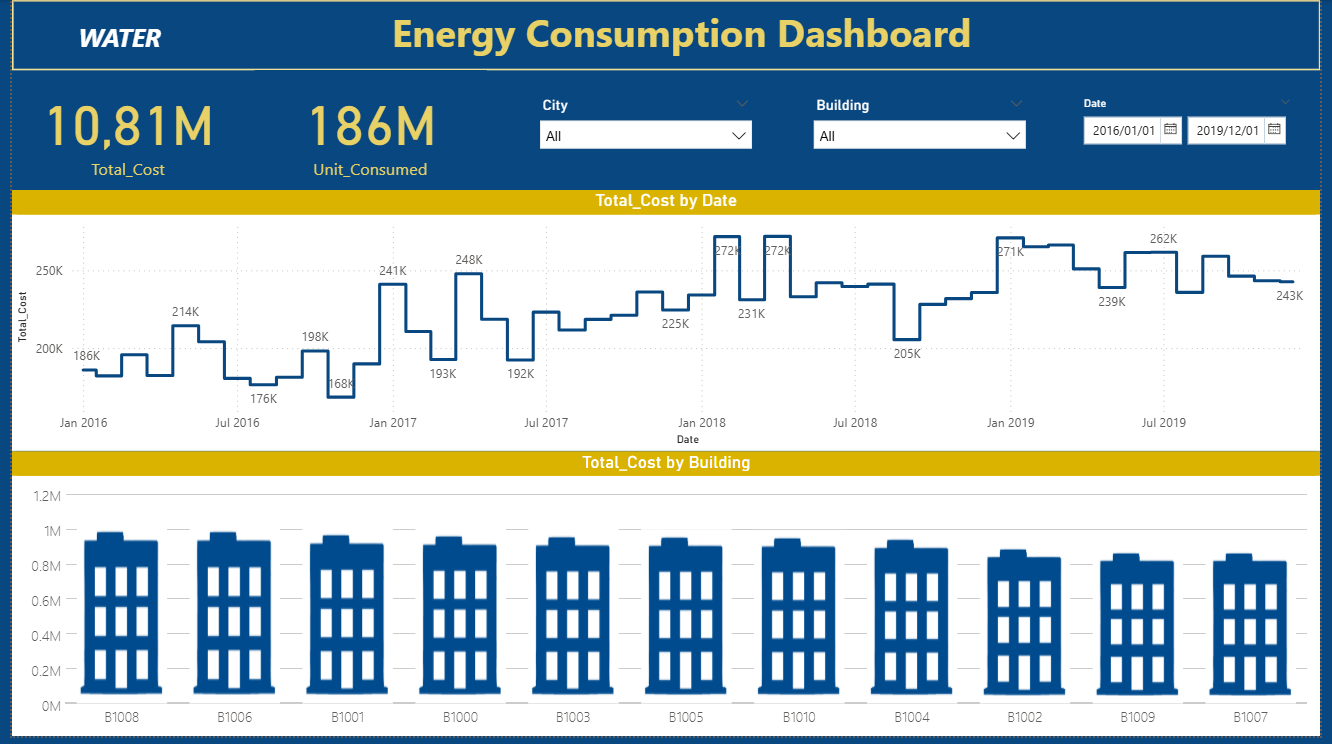

The page's visual inventory and layout, read from the dashboard file:
{"tool":"powerbi","page":{"name":"Water Consumption","canvas":[1280,720],"ordinal":1},"visuals":[{"type":"card","fields":{"Values":["Energy Consumptions.Water_Total_Cost"]},"box":[0,68.6,227.8,116.6],"z":0},{"type":"textbox","box":[0,0,1280.3,68.6],"z":1},{"type":"card","fields":{"Values":["Energy Consumptions.Water_Unit_Consumed"]},"box":[236.7,68.6,227.3,117],"z":2},{"type":"slicer","fields":{"Values":["Building Master.City"]},"box":[505.7,88.8,227.3,75.3],"z":3},{"type":"slicer","fields":{"Values":["Energy Consumptions.Building"]},"box":[773.9,89.2,227.8,75.5],"z":4},{"type":"slicer","fields":{"Values":["Energy Consumptions.Date"]},"box":[1036,89.2,227.8,75.5],"z":5},{"type":"lineChart","title":"Total_Cost by Date","fields":{"Y":["Energy Consumptions.Water_Total_Cost1"],"Category":["Energy Consumptions.Date.Variation.Date Hierarchy.Year","Energy Consumptions.Date.Variation.Date Hierarchy.Quarter","Energy Consumptions.Date.Variation.Date Hierarchy.Month","Energy Consumptions.Date.Variation.Date Hierarchy.Day"]},"box":[0,185.6,1280.3,255.5],"z":6},{"type":"PBI_CV_73744D90_4DC9_4F18_8BA5_EE8FA5C98035","title":"Total_Cost by  Building","fields":{"Values":["Energy Consumptions.Water_Total_Cost1"],"Category":["Building Master.Building"]},"box":[0,441.1,1280.3,278.4],"z":7}]}

Visuals, with their boxes in screenshot pixels (x1, y1, x2, y2), scaled from the page's 1280x720 canvas onto the 1332x744 screenshot:
card - Energy Consumptions.Water_Total_Cost: [left=0, top=71, right=237, bottom=191]
textbox: [left=0, top=0, right=1331, bottom=71]
card - Energy Consumptions.Water_Unit_Consumed: [left=246, top=71, right=483, bottom=192]
slicer - Building Master.City: [left=526, top=92, right=763, bottom=170]
slicer - Energy Consumptions.Building: [left=805, top=92, right=1042, bottom=170]
slicer - Energy Consumptions.Date: [left=1078, top=92, right=1315, bottom=170]
"Total_Cost by Date" lineChart: [left=0, top=192, right=1331, bottom=456]
"Total_Cost by  Building" PBI_CV_73744D90_4DC9_4F18_8BA5_EE8FA5C98035: [left=0, top=456, right=1331, bottom=743]
